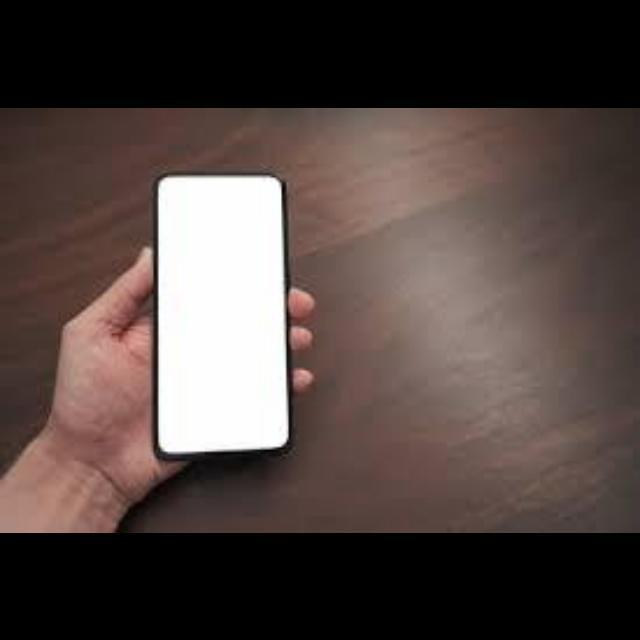phone: (154, 170, 291, 460)
